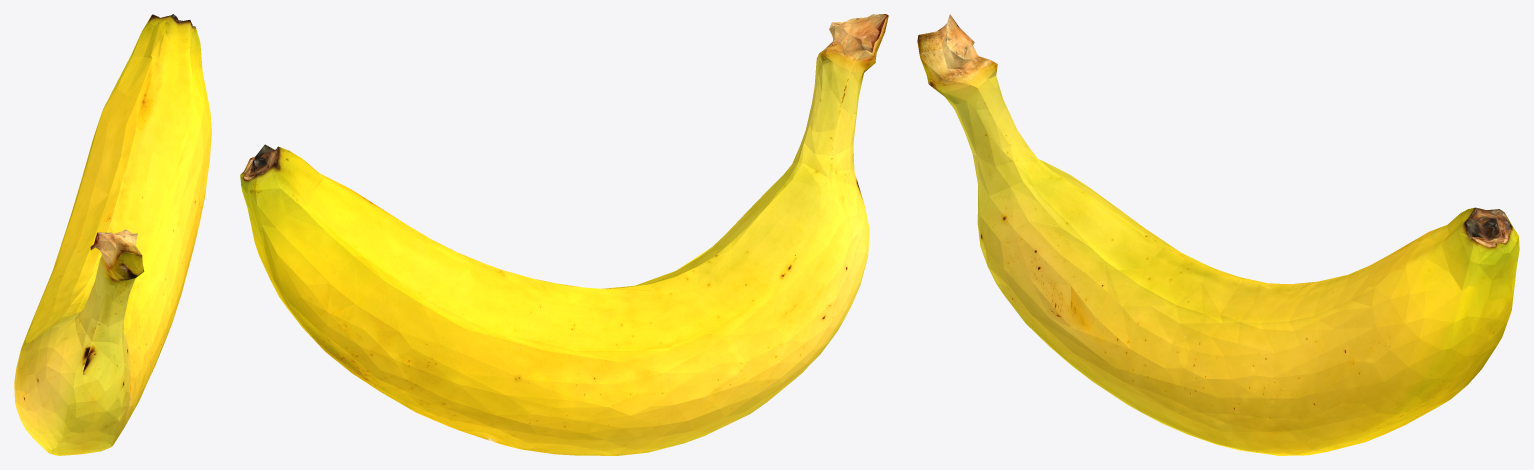
The model's file is banana.glb.
3 views of the same model, side by side, from view 1: azimuth 30°, elevation 25°; view 2: azimuth 150°, elevation 25°; view 3: azimuth 270°, elevation 25° (orthographic). The views are drawn at different scales.
Parts seen in each view (by area): view 1: Object_17; view 2: Object_17; view 3: Object_17.
Part boxes in pixels (bbox=[...]): Object_17: bbox=[14, 14, 211, 455]; Object_17: bbox=[240, 14, 888, 455]; Object_17: bbox=[917, 14, 1519, 455].
Size of the model in its own units: 4.47 by 3.87 by 5.87.
1 material, 1 textured.
